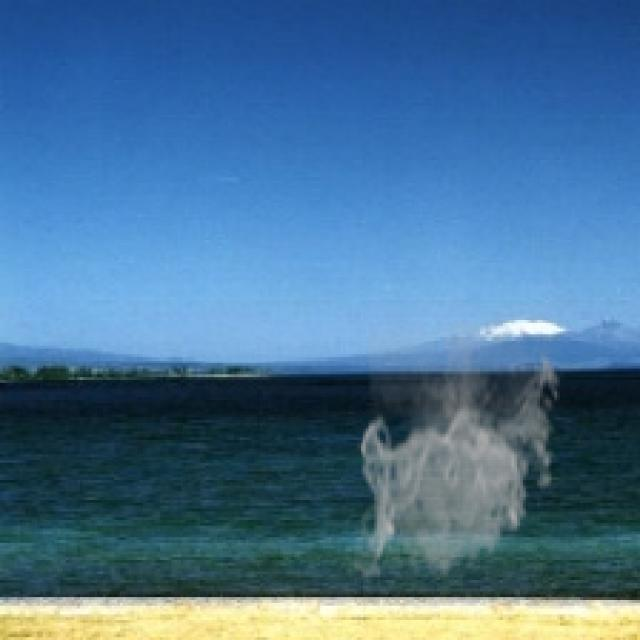Smoke: (354, 323, 566, 586)
